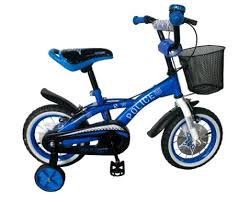bicycle: (14, 4, 238, 193)
